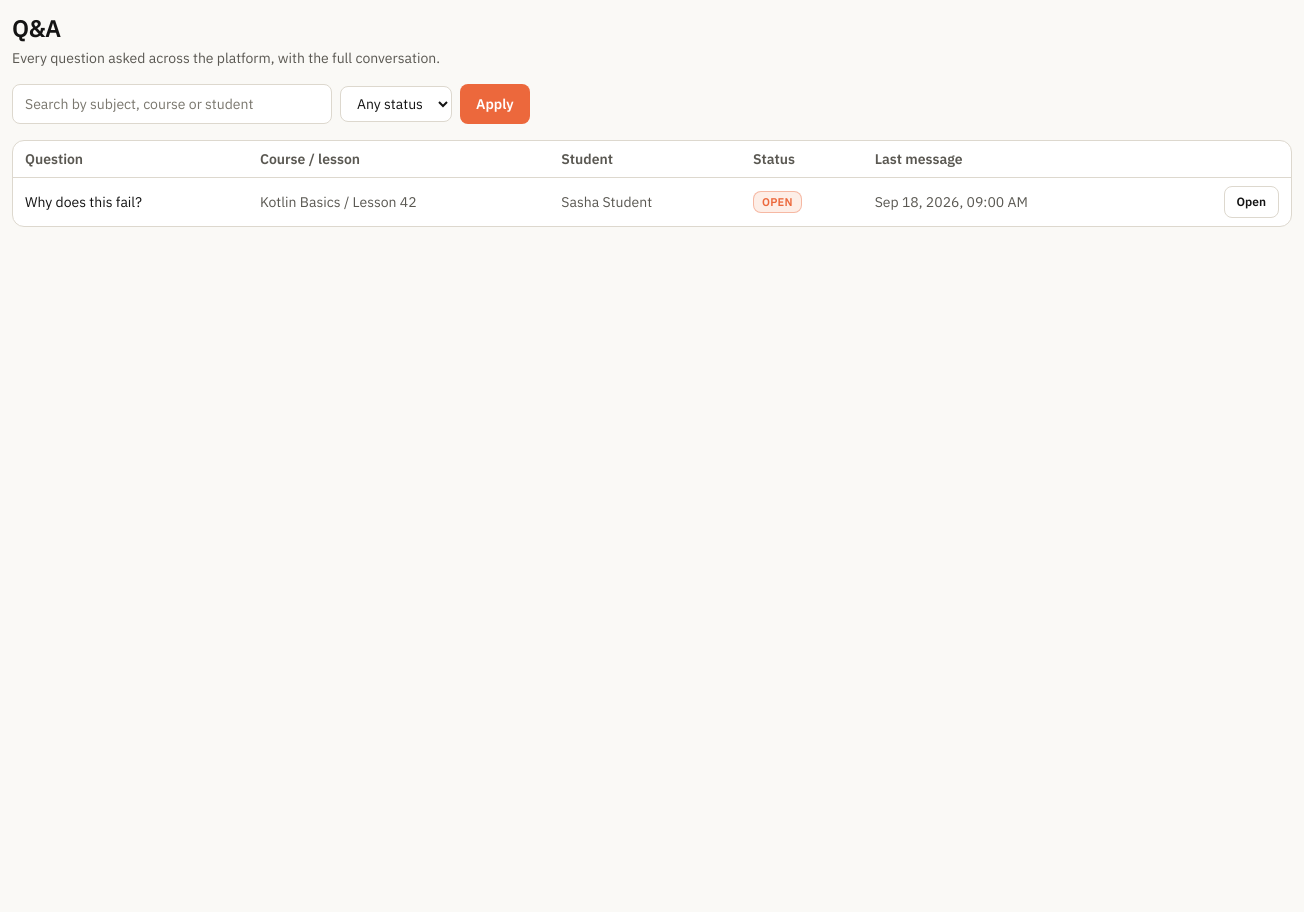
Test: AdminQuestionsView › does not offer the resolve control
The width and height of the screenshot is (1304, 912).
Click the button "Open".
click(1251, 202)  # box [1224,186,1279,218]
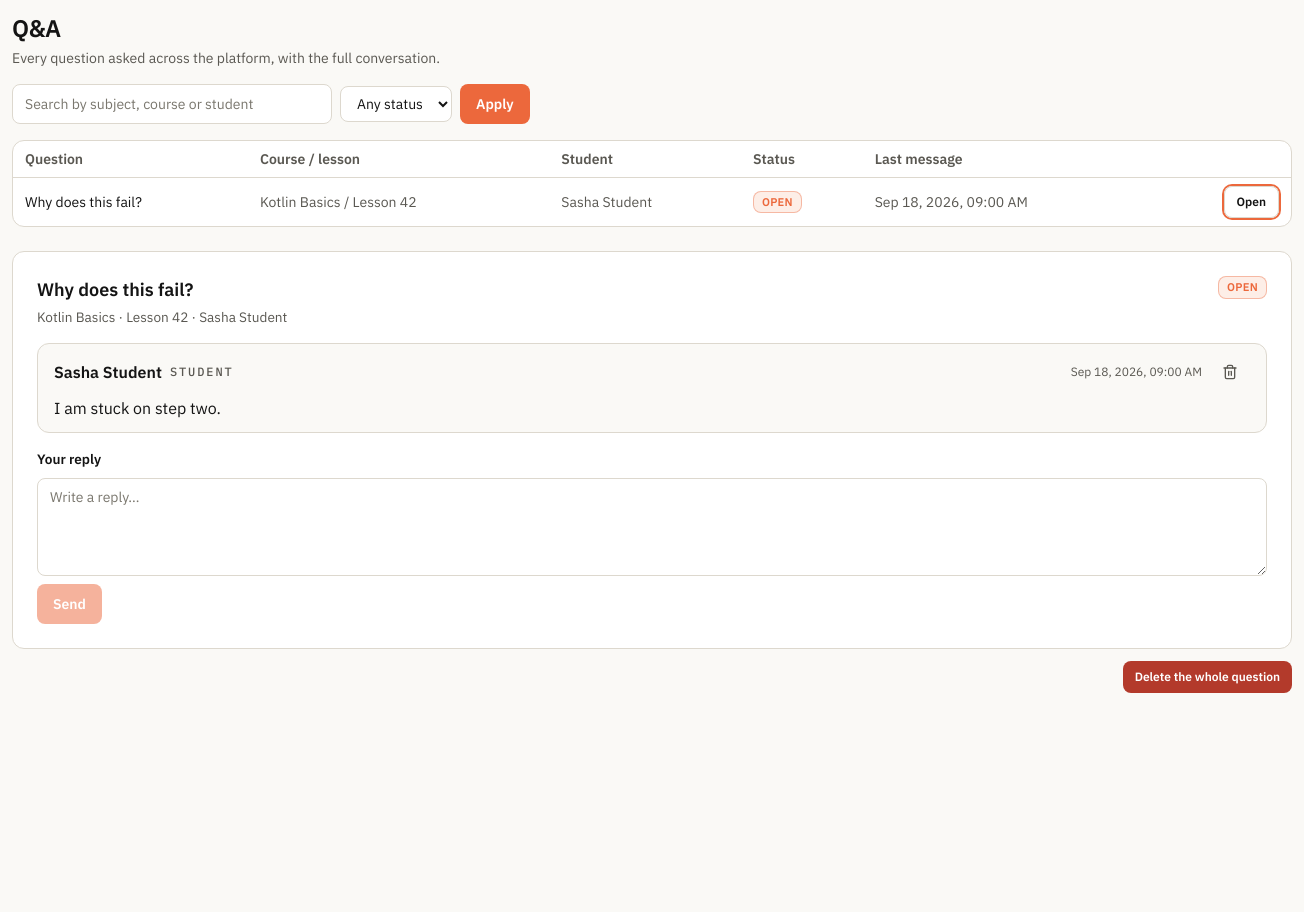
Expected: the text box labelled "Your reply" is shown, [37,478,1267,576]
